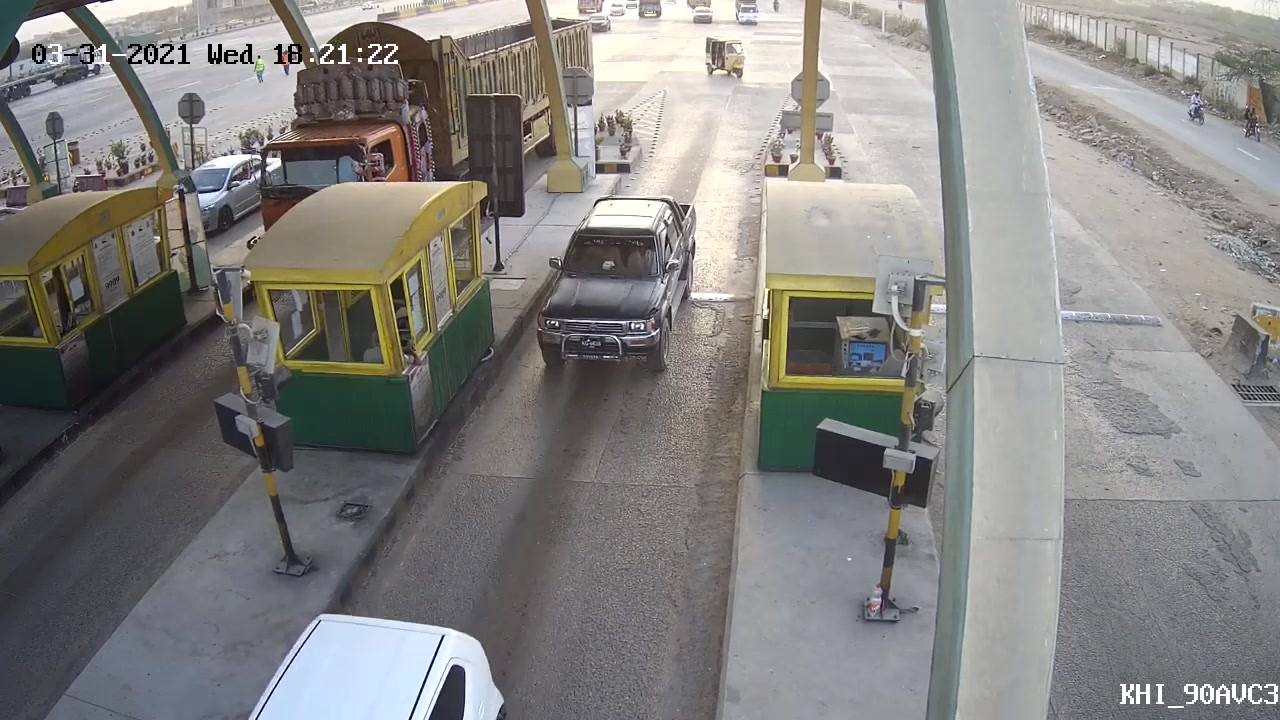F1: (525, 177, 699, 377)
